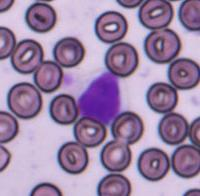L: (74, 68, 126, 125)
